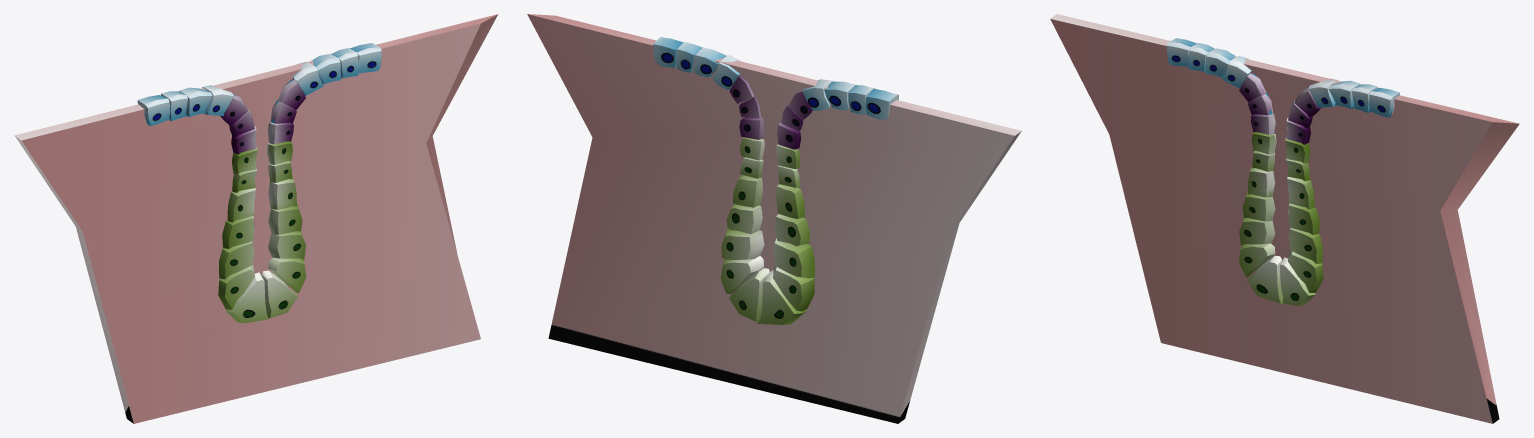
The model's file is glander apthemum.fbx.
3 views of the same model, side by side, from view 1: azimuth 30°, elevation 25°; view 2: azimuth 150°, elevation 25°; view 3: azimuth 330°, elevation 25° (orthographic). The views are drawn at different scales.
Visible parts, largest first — view 1: pCube15, pCube1, pCube3, pCube2, pCube4, pCube5, pCube14, pCube12, pCube11, pCube13, pCube7, pCube10 (+3 smaller); view 2: pCube15, pCube1, pCube3, pCube2, pCube4, pCube5, pCube14, pCube12, pCube11, pCube13, pCube8, pCube7 (+3 smaller); view 3: pCube15, pCube1, pCube3, pCube2, pCube4, pCube5, pCube14, pCube12, pCube11, pCube13, pCube7, pCube10 (+3 smaller).
Boxes of the visible parts, x1,y1,x2,y2 form: pCube15: (14, 14, 498, 423); pCube1: (226, 270, 297, 323); pCube3: (218, 231, 305, 279); pCube2: (218, 257, 306, 309); pCube4: (222, 203, 302, 248); pCube5: (227, 177, 296, 222); pCube14: (137, 43, 381, 125); pCube12: (179, 54, 341, 116); pCube11: (202, 61, 323, 115); pCube13: (161, 48, 358, 120); pCube7: (232, 141, 292, 174); pCube10: (220, 79, 305, 125); pCube15: (527, 14, 1021, 423); pCube1: (729, 268, 806, 324); pCube3: (721, 228, 814, 278); pCube2: (721, 256, 814, 311); pCube4: (726, 204, 809, 246); pCube5: (733, 175, 804, 218); pCube14: (653, 37, 898, 119); pCube12: (694, 47, 856, 110); pCube11: (712, 55, 834, 110); pCube13: (676, 42, 875, 114); pCube8: (739, 117, 801, 149); pCube7: (740, 137, 800, 168); pCube15: (1050, 14, 1519, 423); pCube1: (1247, 255, 1315, 305); pCube3: (1239, 218, 1322, 263); pCube2: (1239, 243, 1323, 292); pCube4: (1242, 192, 1319, 234); pCube5: (1248, 166, 1314, 209); pCube14: (1166, 38, 1399, 117); pCube12: (1205, 48, 1360, 108); pCube11: (1222, 56, 1337, 107); pCube13: (1188, 43, 1377, 112); pCube7: (1251, 132, 1310, 163); pCube10: (1239, 72, 1320, 116).
Size of the model in its own units: 69.12 by 43.62 by 5.34.
